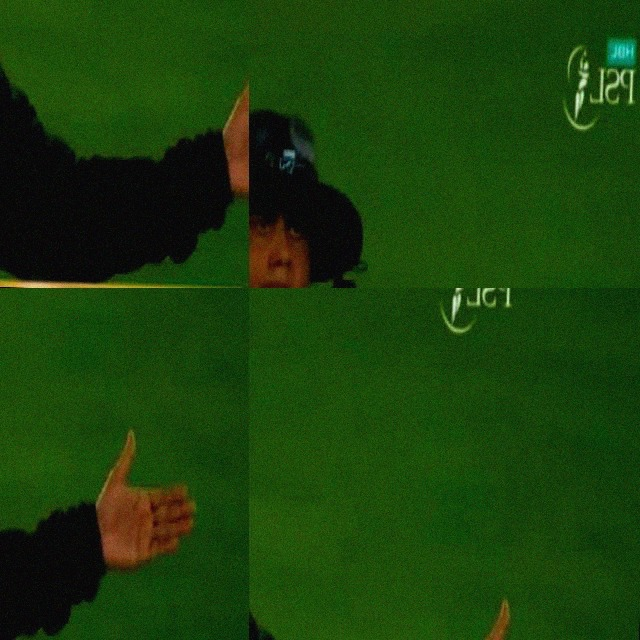No_Action: (23, 288, 148, 640), (520, 0, 640, 288)
No_Ball: (249, 292, 584, 640)
Six: (0, 0, 249, 276)
